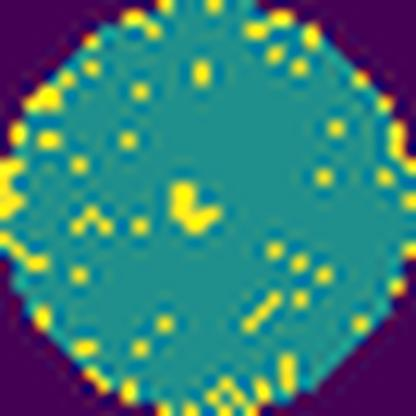Center: (170, 174, 224, 243)
